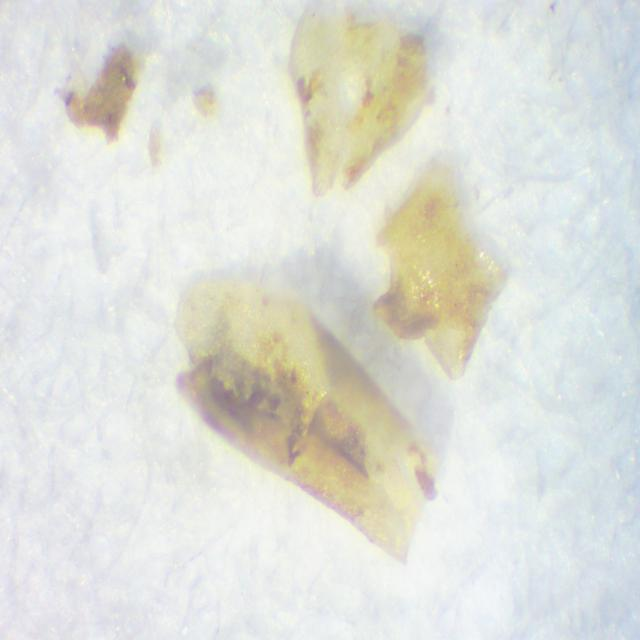microplastic: (171, 273, 433, 568), (374, 163, 511, 385), (289, 9, 432, 201)
